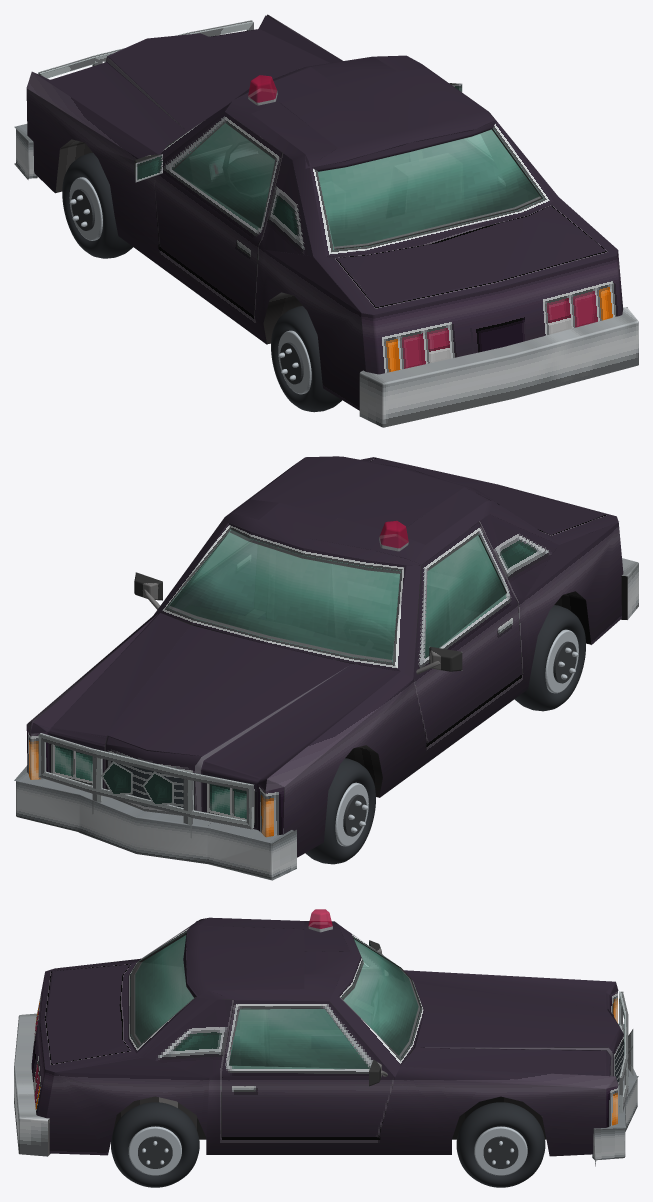
File: car-csedan.glb
The picture shows the model from 3 angles, top to bottom: view 1: azimuth 30°, elevation 25°; view 2: azimuth 150°, elevation 25°; view 3: azimuth 270°, elevation 25°; orthographic projection. The views are drawn at different scales.
Parts seen in each view (by area): view 1: cSedanShape.002, cSedanShape.001, cSedanShape.005, cSedanShape.004, cSedanShape.006, cSedanShape.008, DoorDRotShape.053, DoorDRotShape.055, Rounded tire.082, Rounded tire.081, DoorPRotShape.060, cSedanShape (+5 smaller); view 2: cSedanShape.004, cSedanShape.002, cSedanShape.005, cSedanShape.006, cSedanShape.008, DoorDRotShape.053, DoorDRotShape.055, DoorPRotShape.060, Rounded tire.081, Rounded tire.082, cSedanShape, cSedanShape.001 (+8 smaller); view 3: cSedanShape.002, cSedanShape.004, cSedanShape.003, DoorPRotShape.060, cSedanShape.005, cSedanShape.006, cSedanShape.008, DoorPRotShape.062, cSedanShape.001, Rounded tire.083, Rounded tire.080, DoorDRotShape.053 (+5 smaller).
Boxes of the visible parts, <box> form: cSedanShape.002: <box>26,20,617,410</box>; cSedanShape.001: <box>248,88,638,427</box>; cSedanShape.005: <box>172,112,542,272</box>; cSedanShape.004: <box>14,15,341,179</box>; cSedanShape.006: <box>318,129,541,248</box>; cSedanShape.008: <box>251,68,496,172</box>; DoorDRotShape.053: <box>135,112,281,316</box>; DoorDRotShape.055: <box>173,123,274,228</box>; Rounded tire.082: <box>62,152,132,258</box>; Rounded tire.081: <box>271,306,342,412</box>; DoorPRotShape.060: <box>422,139,505,198</box>; cSedanShape: <box>55,139,627,372</box>; cSedanShape.004: <box>14,612,400,880</box>; cSedanShape.002: <box>38,457,623,857</box>; cSedanShape.005: <box>167,520,506,669</box>; cSedanShape.006: <box>168,530,400,662</box>; cSedanShape.008: <box>251,456,499,544</box>; DoorDRotShape.053: <box>413,522,522,743</box>; DoorDRotShape.055: <box>425,535,505,657</box>; DoorPRotShape.060: <box>172,540,257,615</box>; Rounded tire.081: <box>514,605,585,711</box>; Rounded tire.082: <box>305,758,375,864</box>; cSedanShape: <box>79,576,627,832</box>; cSedanShape.001: <box>379,484,638,619</box>; cSedanShape.002: <box>40,918,633,1155</box>; cSedanShape.004: <box>400,970,638,1166</box>; cSedanShape.003: <box>144,999,618,1156</box>; DoorPRotShape.060: <box>221,1000,394,1137</box>; cSedanShape.005: <box>131,932,421,1068</box>; cSedanShape.006: <box>134,935,420,1057</box>; cSedanShape.008: <box>183,917,325,997</box>; DoorPRotShape.062: <box>229,1009,368,1068</box>; cSedanShape.001: <box>14,922,332,1156</box>; Rounded tire.083: <box>456,1102,545,1187</box>; Rounded tire.080: <box>111,1102,199,1187</box>; DoorDRotShape.053: <box>236,940,393,1029</box>.
Size of the model in its own units: 2.75 by 1.97 by 5.53.
Materials: 12 (9 with a texture image).
